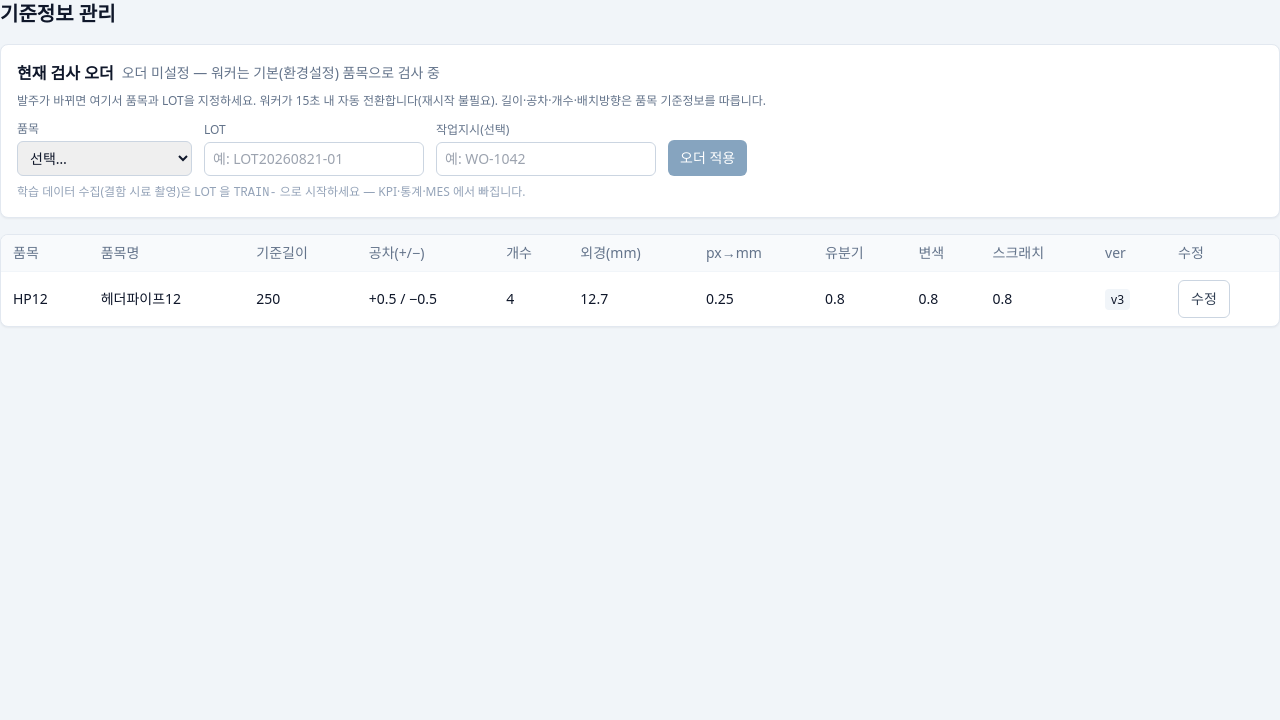
it: MasterPage — 웹 캘리브레이션 › measured/actual 로 calibrate 호출 후 결과 반영
Click the button with test id "edit-HP12" at (1204, 299), box [1178,280,1230,318]
(page scrolled)
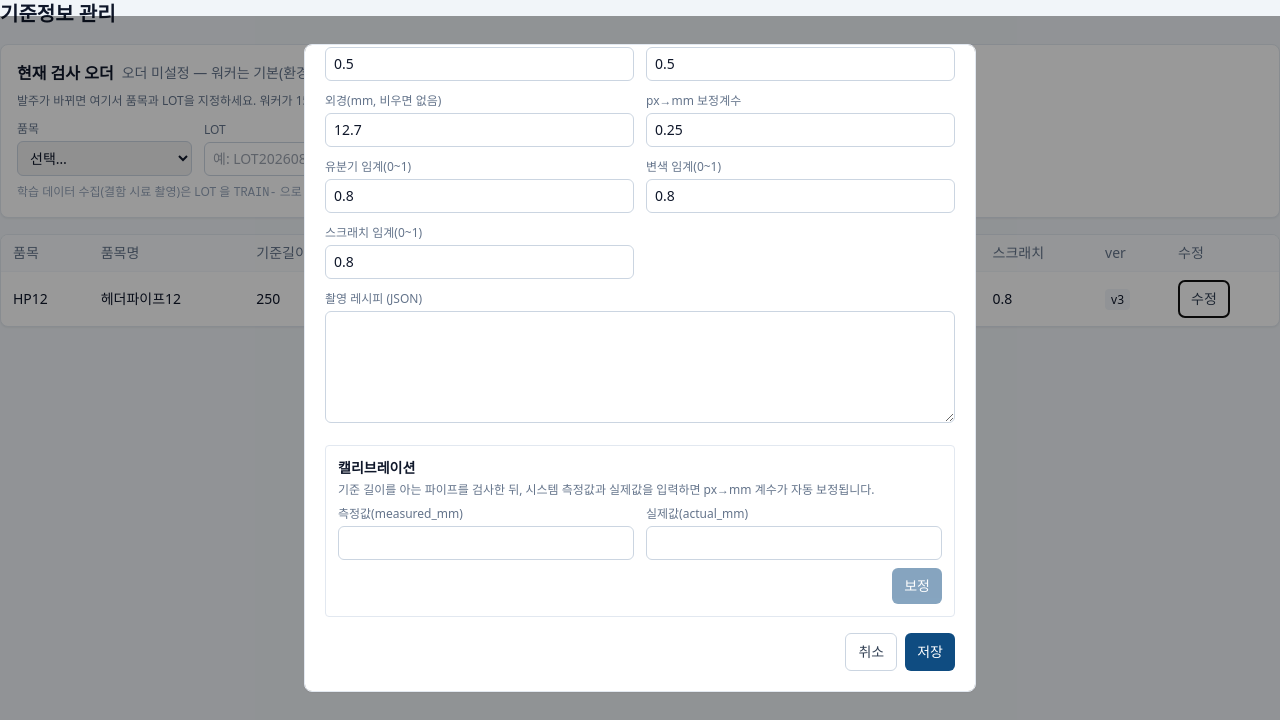
Type "100" into the number field with test id "calib-measured" at (486, 543), box [338,526,634,560]
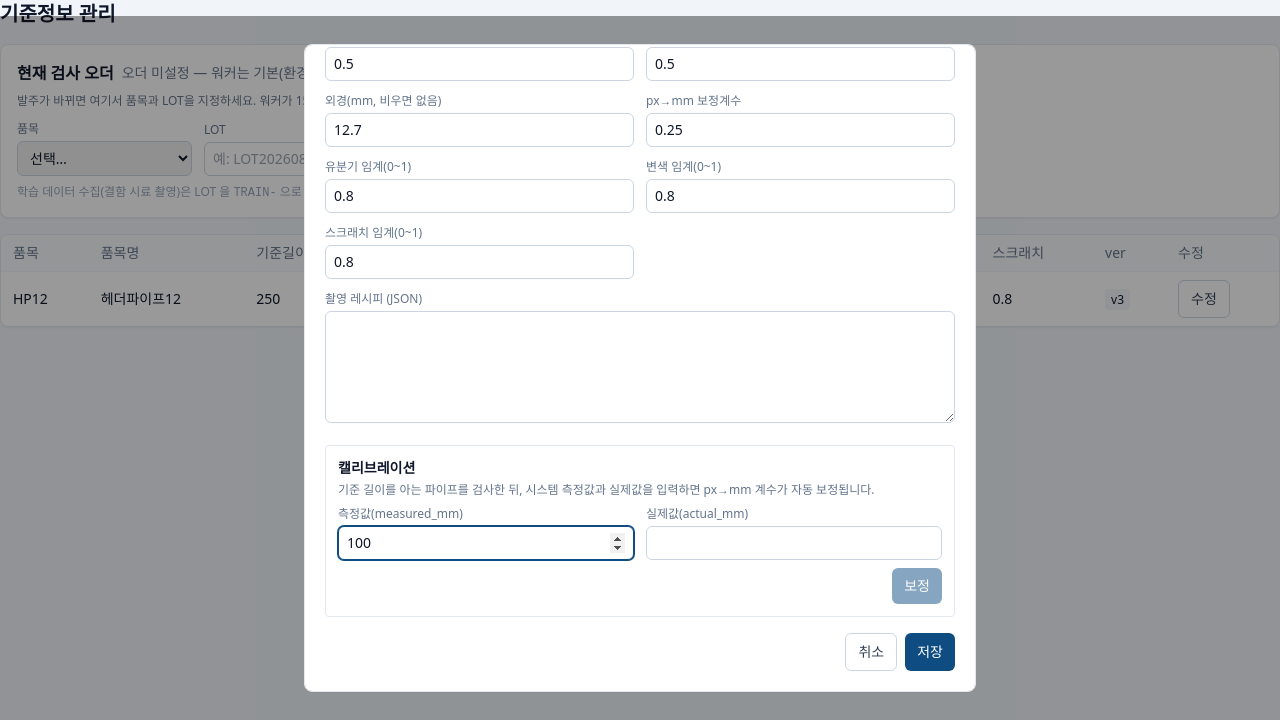
Type "100.68" into the number field with test id "calib-actual" at (794, 543), box [646,526,942,560]
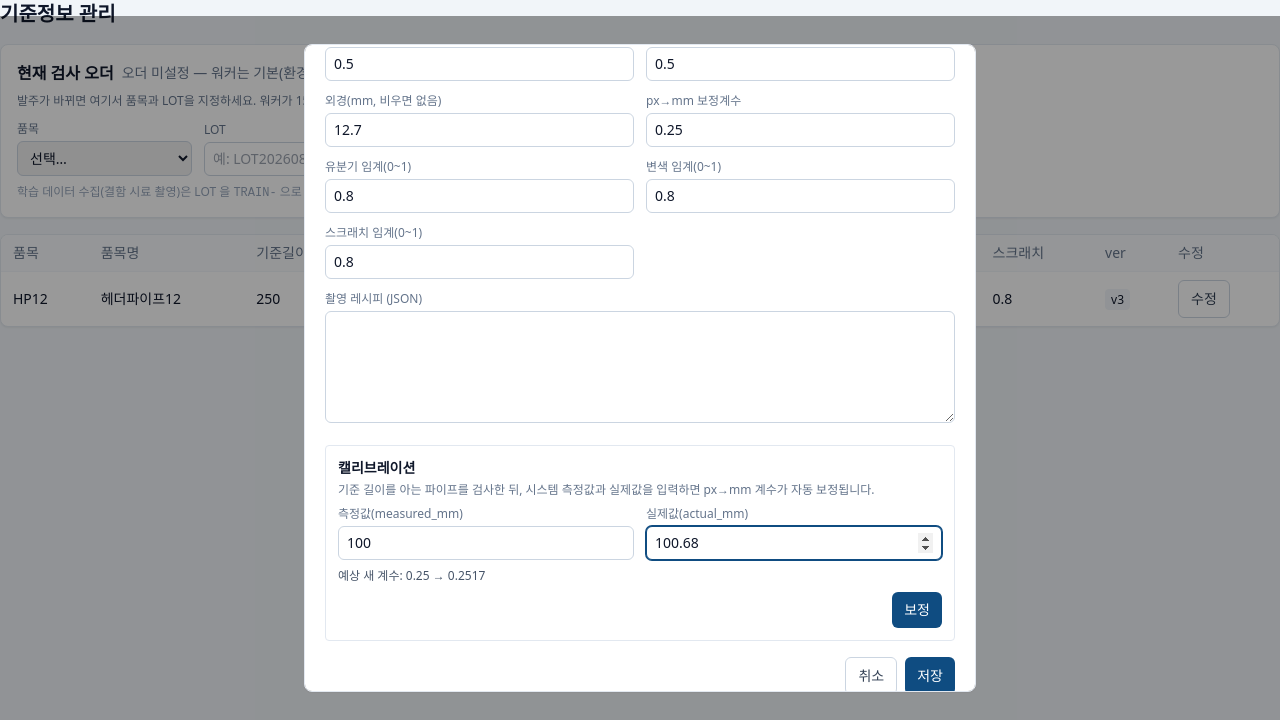
Expected: the text "예상 새 계수: 0.25 → 0.2517" is shown, [338,567,485,584]
Click the button with test id "calib-submit" at (917, 610), box [892,592,942,628]
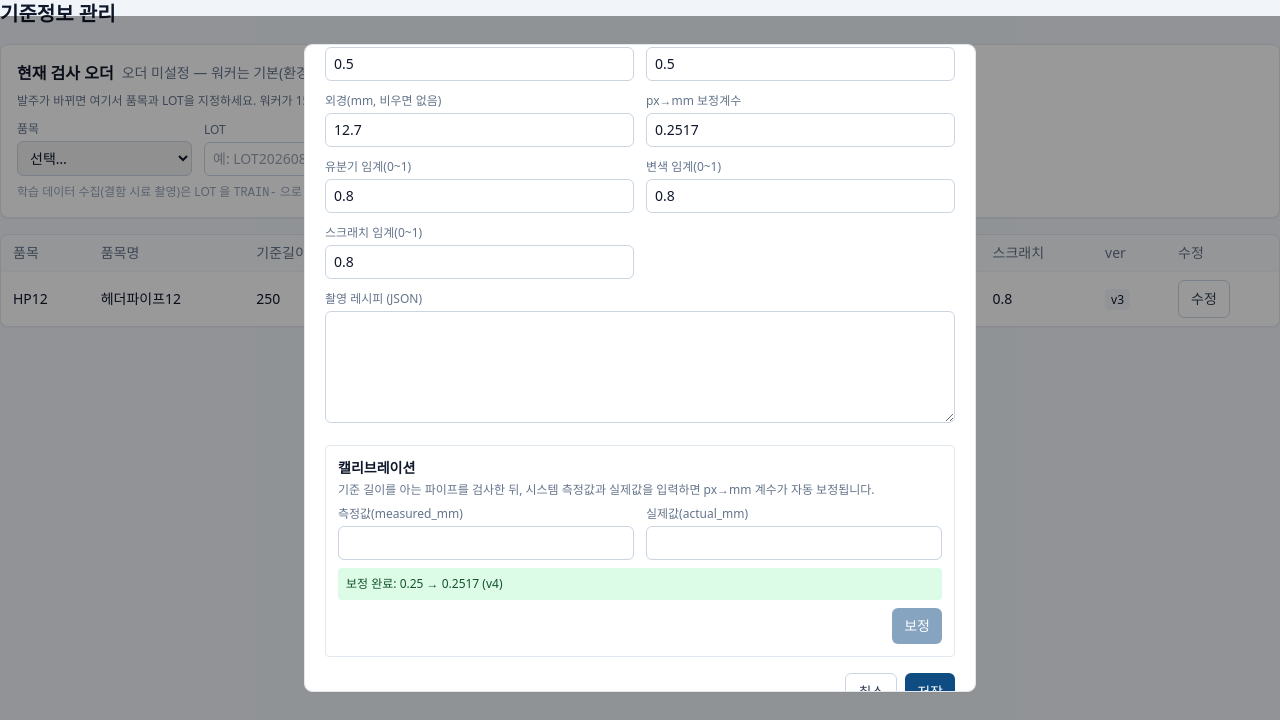
Expected: the text with test id "calib-result" shows "0.2517", [442,575,479,592]
Expected: the number field with test id "edit-px_to_mm_scale" holds "0.2517", [646,113,955,147]
